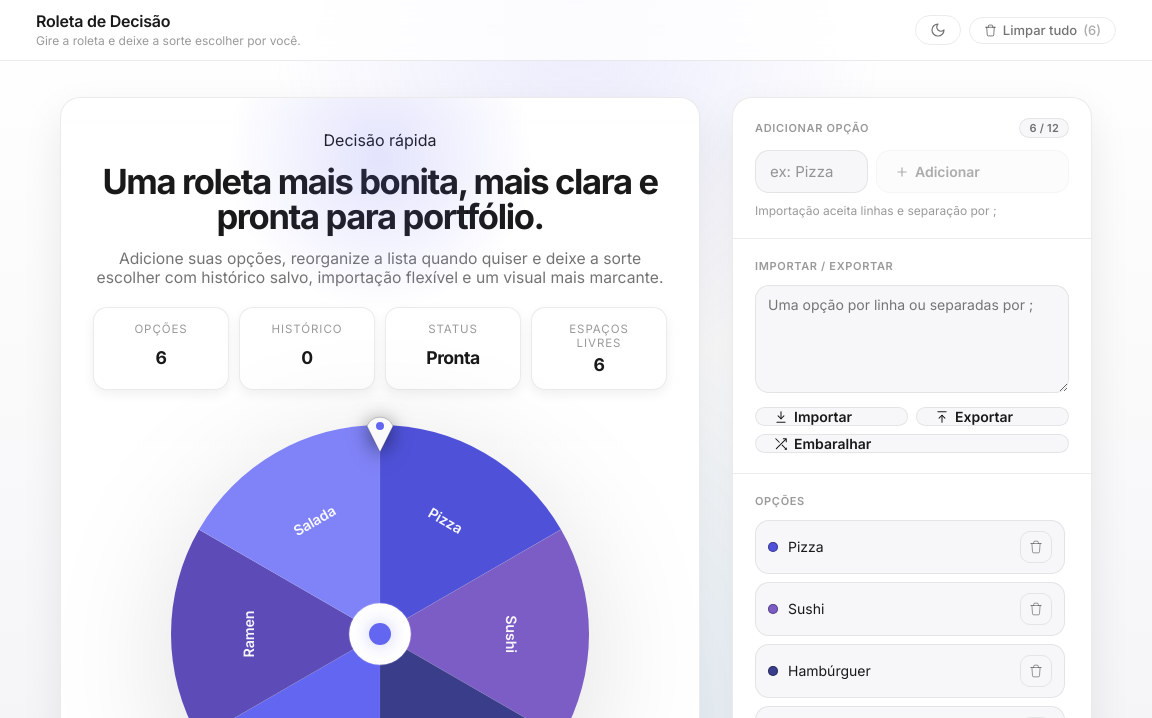
Test: App › importa opções a partir de texto e separadores alternativos
This screenshot has width=1152, height=718.
In the text box with placeholder "Uma opção por linha ou separadas por ;": (912, 339) [755,285,1069,393], type "Café;Chá"
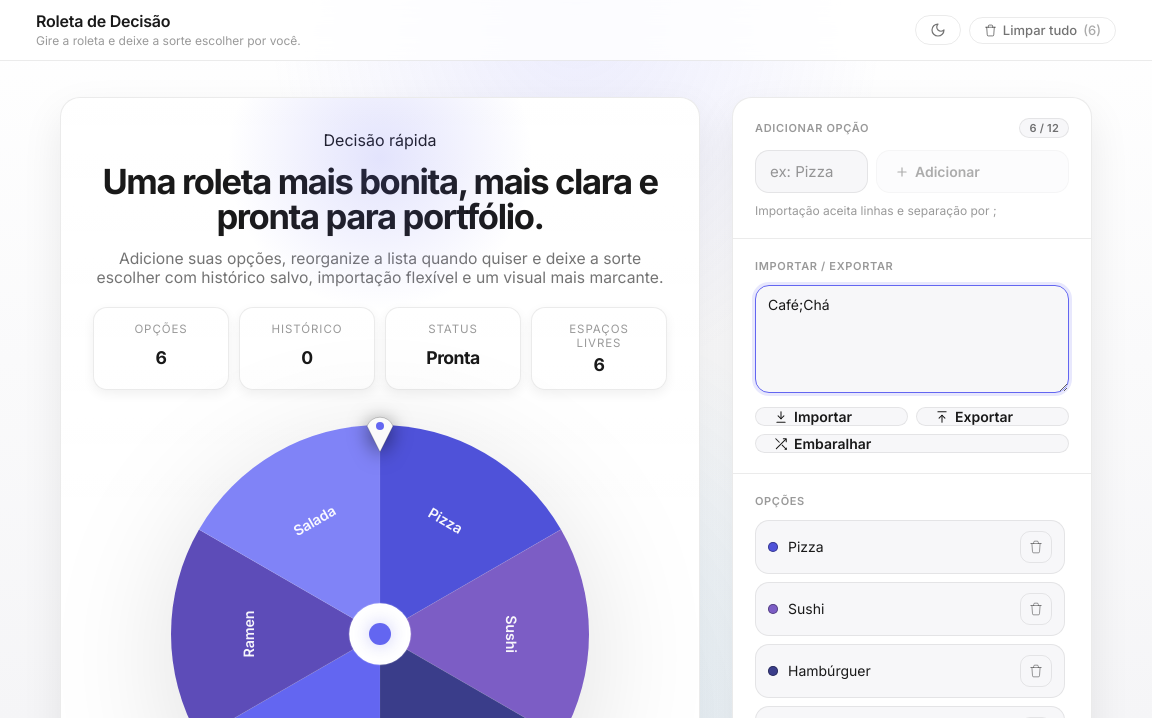
Click the button "Importar": (832, 416) [755,407,908,426]
(page scrolled)
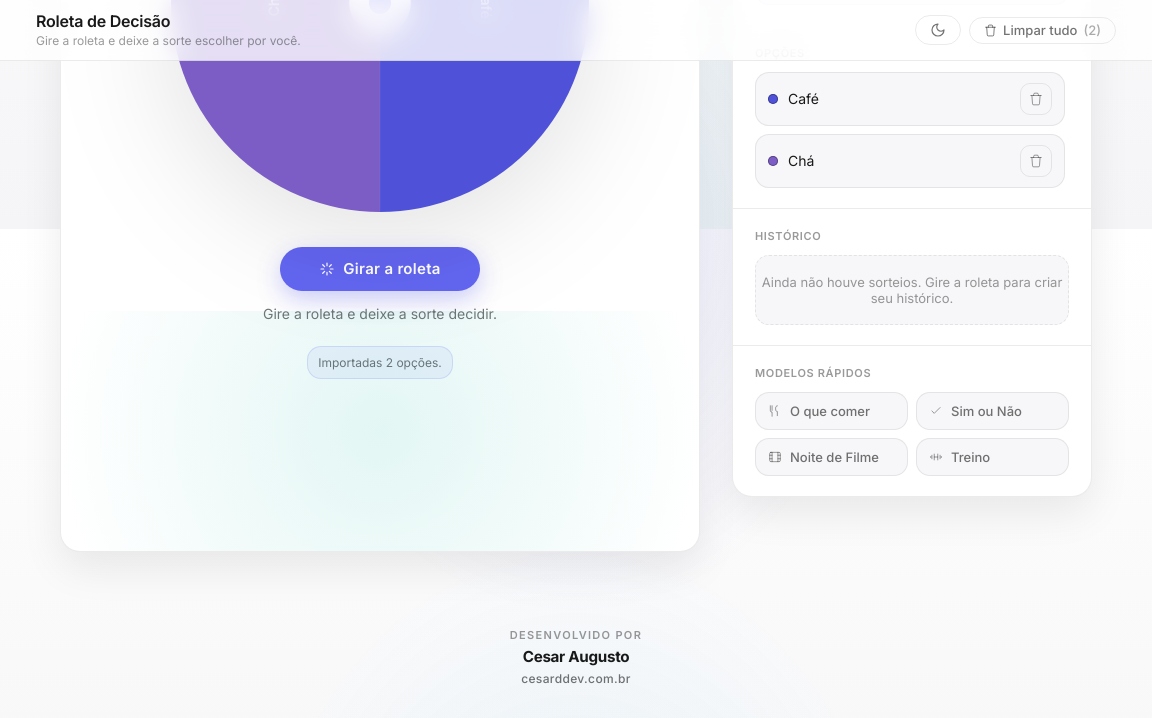
Expected: the text "Café" is shown, [788,90,819,107]
Expected: the text "Chá" is shown, [788,152,814,169]
Expected: the text "Importadas 2 opções." is shown, [307,346,453,378]
